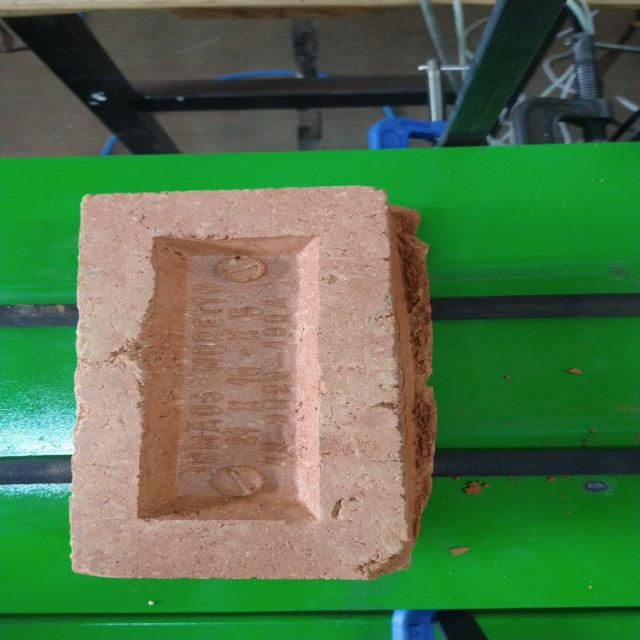bricks_ruin: (69, 189, 441, 580)
